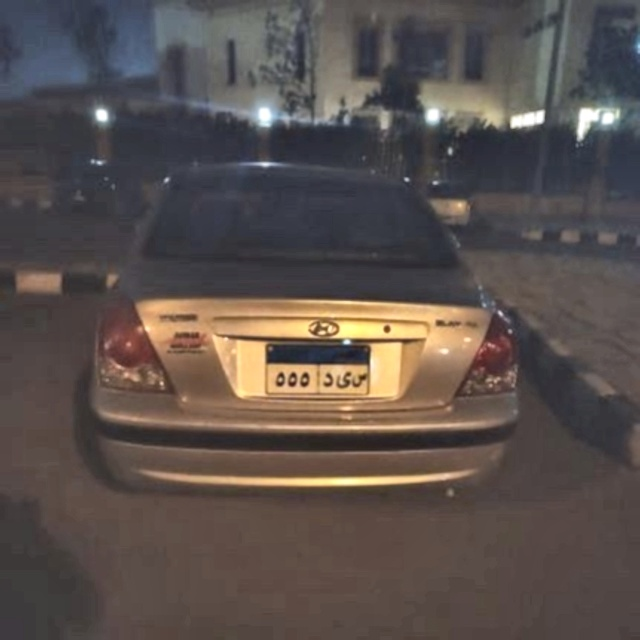License Plate: (263, 343, 373, 398)
